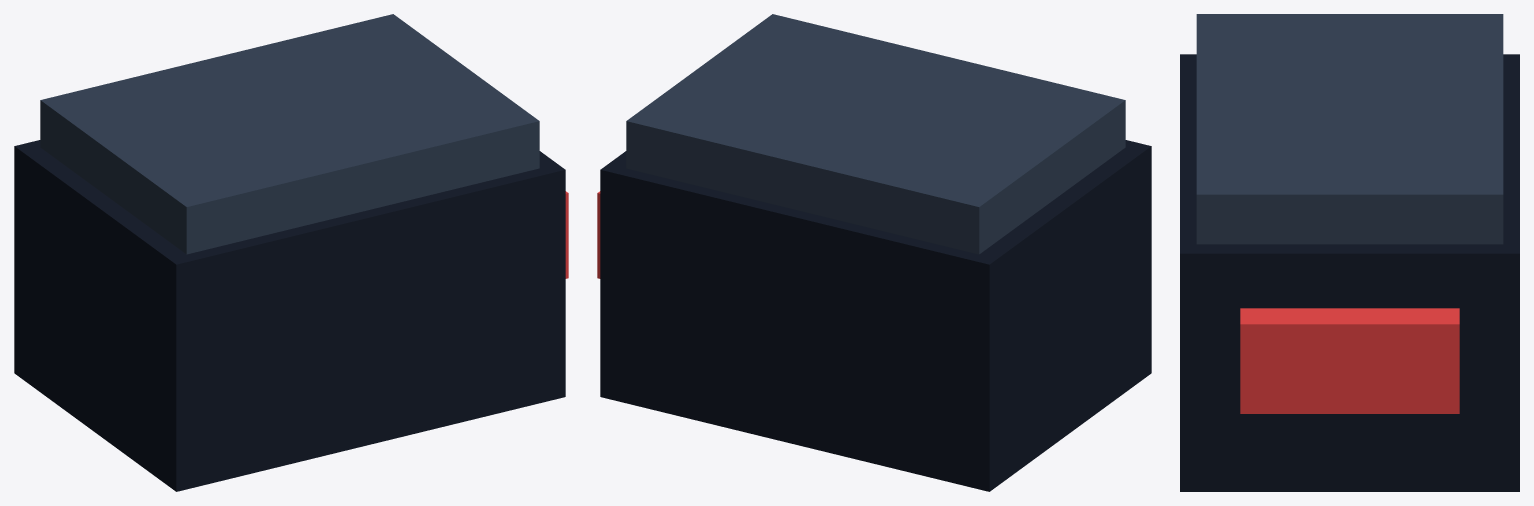
Rendered from generic-top-case.glb.
The picture shows the model from 3 angles, left to right: view 1: azimuth 30°, elevation 25°; view 2: azimuth 150°, elevation 25°; view 3: azimuth 270°, elevation 25°; orthographic projection. The views are drawn at different scales.
Parts seen in each view (by area): view 1: case_body, case_lid; view 2: case_body, case_lid; view 3: case_lid, case_body, reflector.
Boxes of the visible parts, x1,y1,x2,y2 form: case_body: (14, 140, 565, 491); case_lid: (40, 14, 539, 254); case_body: (600, 140, 1151, 491); case_lid: (626, 14, 1125, 254); case_lid: (1196, 14, 1503, 244); case_body: (1180, 54, 1519, 491); reflector: (1240, 308, 1459, 413).
Size of the model in its own units: 0.93 by 0.58 by 0.62.
